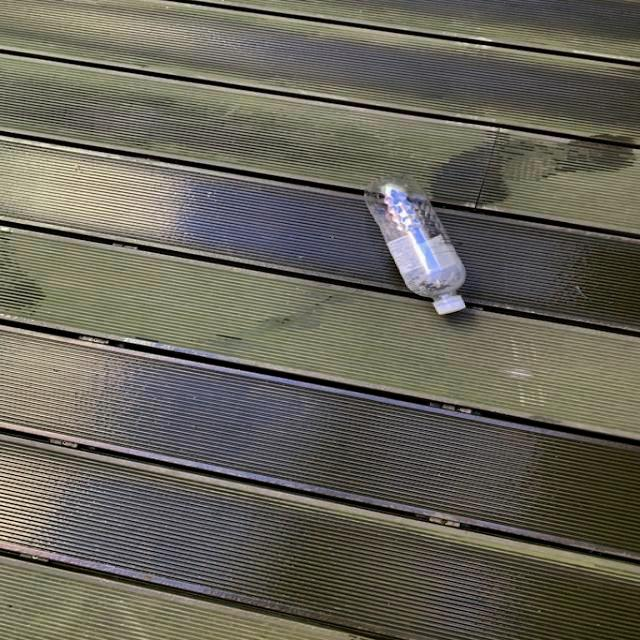bottle: (364, 175, 466, 316)
